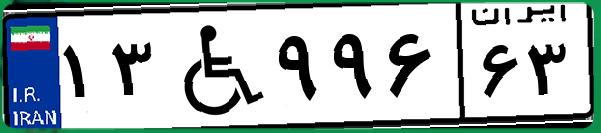1: (57, 26, 110, 100)
3: (525, 38, 570, 115), (110, 28, 158, 98)
6: (385, 28, 445, 110), (475, 38, 525, 113)
9: (270, 28, 330, 110), (330, 28, 385, 110)
ژ (معلولین و جانبازان): (158, 12, 270, 120)
